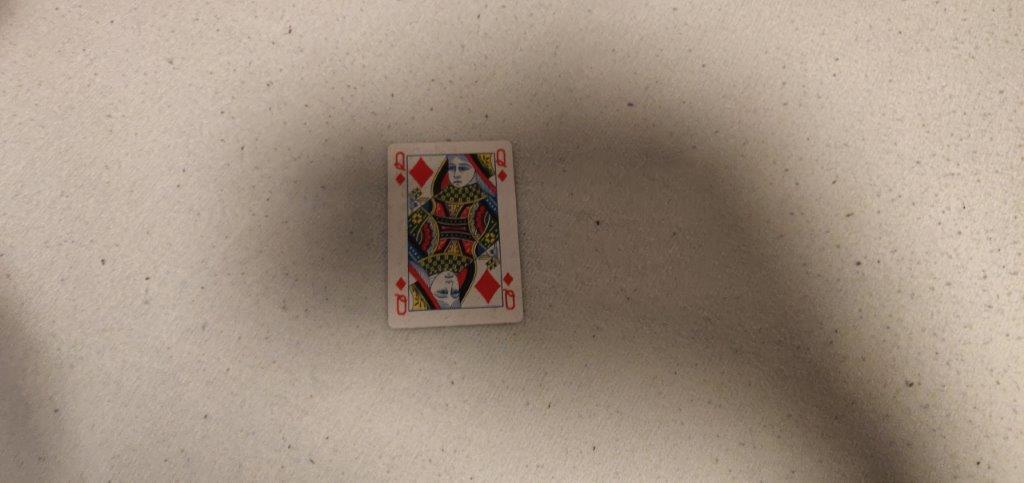QD: (392, 148, 412, 191), (492, 147, 512, 187)
